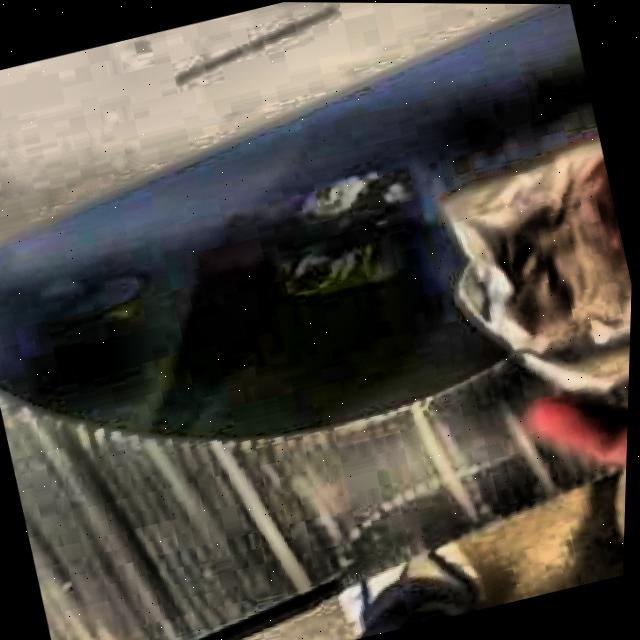metal: (444, 141, 633, 391)
